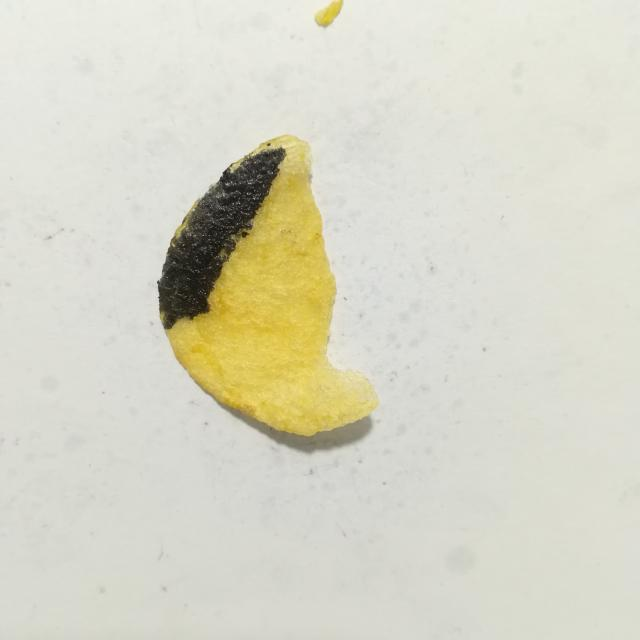chip: (158, 135, 378, 435)
damaged: (158, 148, 286, 329), (267, 142, 271, 146)
